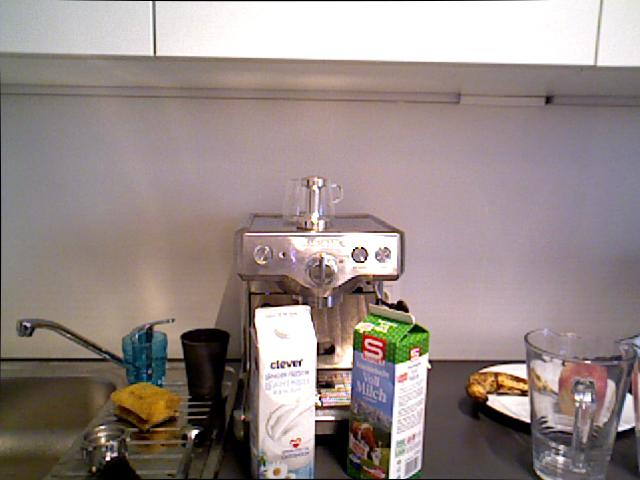bench: (350, 300, 424, 480), (250, 303, 318, 480)
couch: (0, 372, 118, 479)
handbag: (521, 325, 637, 478), (179, 327, 230, 400), (116, 331, 170, 390), (286, 174, 343, 229)
motorcycle: (461, 366, 528, 407)
